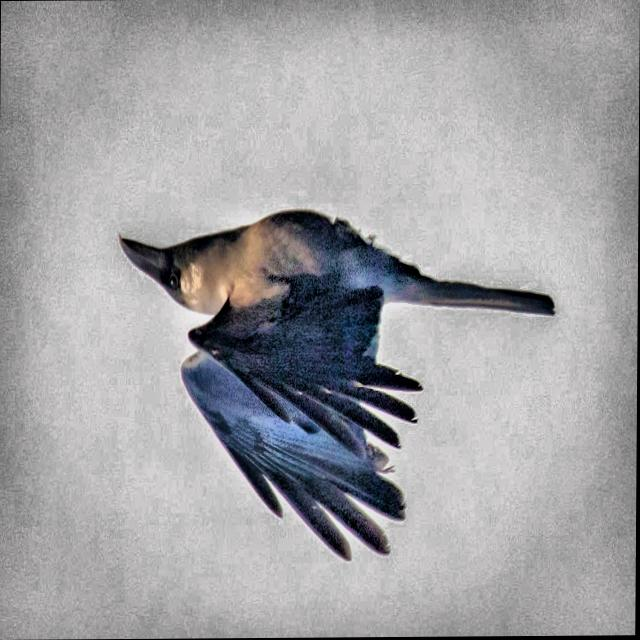crow: (89, 187, 565, 571)
